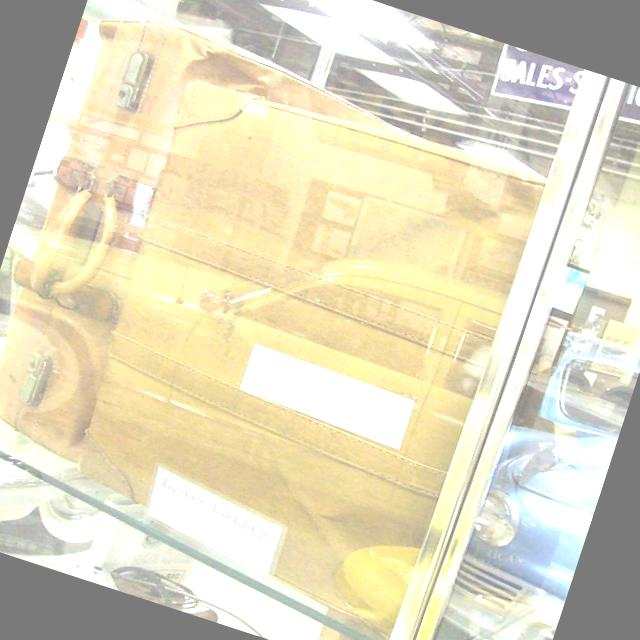Vehicle: (0, 144, 506, 639), (0, 207, 193, 582), (419, 318, 640, 640)
